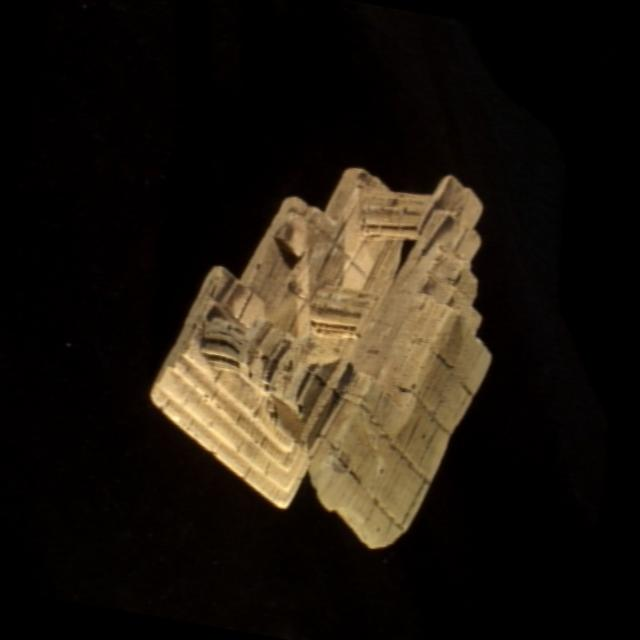Instance-Segmentation: (151, 168, 489, 548)
